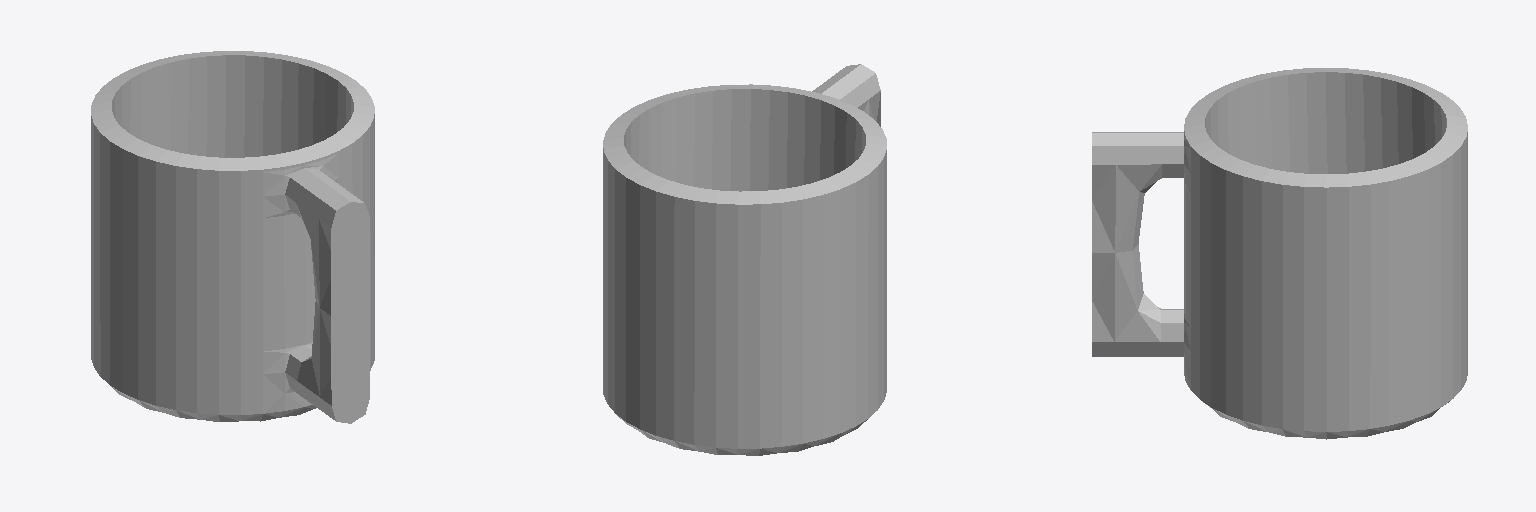
File: mark.obj
3 views of the same model, side by side, from view 1: azimuth 30°, elevation 25°; view 2: azimuth 150°, elevation 25°; view 3: azimuth 270°, elevation 25° (orthographic).
Parts seen in each view (by area): view 1: 柱体; view 2: 柱体; view 3: 柱体.
Part boxes in pixels (x1,y1,x2,y2): 柱体: (91,51,374,423); 柱体: (603,64,886,455); 柱体: (1092,68,1467,439).
Bounding box in the file's own units: 1.98 × 2.03 × 2.61.